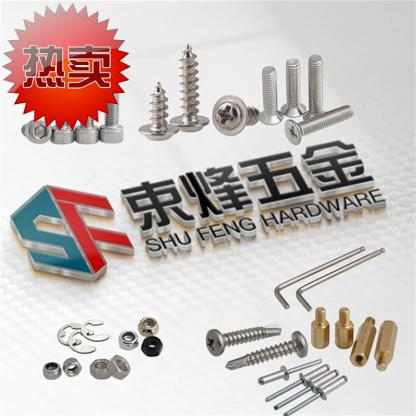FOD: (284, 102, 356, 146), (98, 56, 128, 145), (255, 65, 284, 126), (302, 53, 327, 121), (278, 54, 305, 116), (18, 116, 50, 145)
